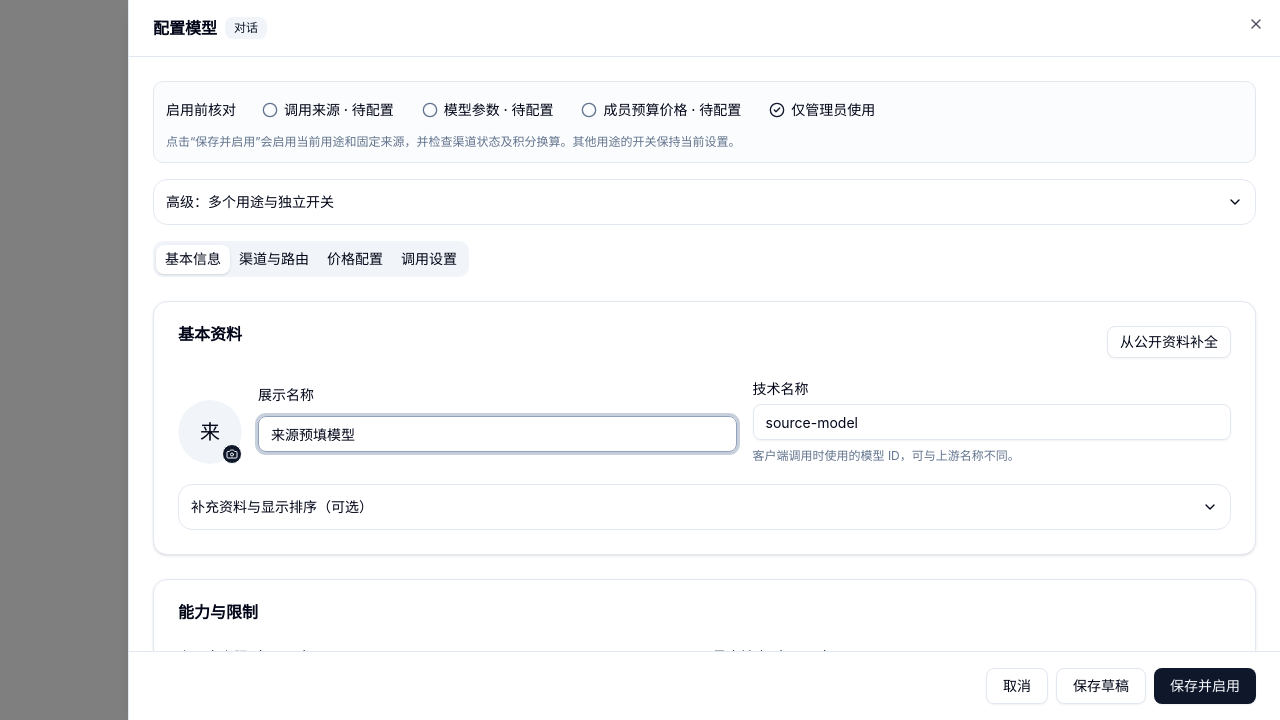
treats a source-first initial draft as unsaved even before another edit
What coordinates should you click on to do the following:
click the button "取消"
I would click on:
 (1017, 686)
Its box is x1=986 y1=668 x2=1048 y2=704.
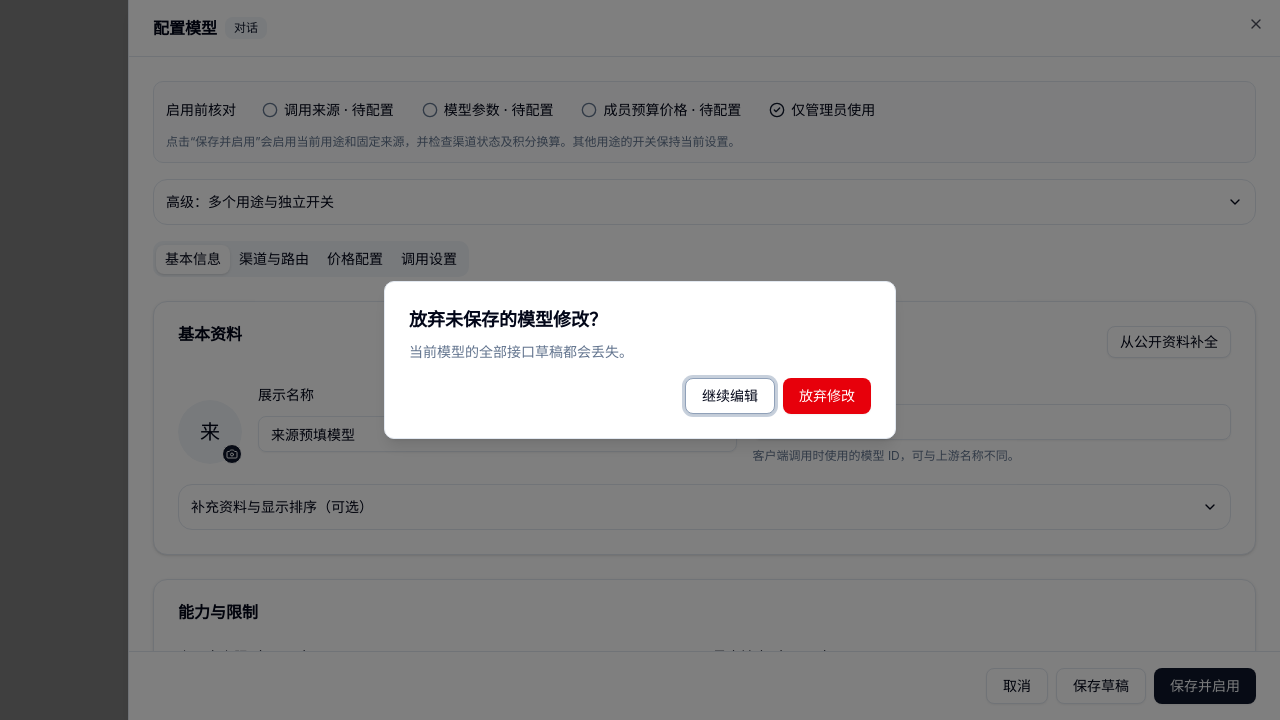
Check: the heading "放弃未保存的模型修改？" is shown, box x1=409 y1=309 x2=607 y2=330
